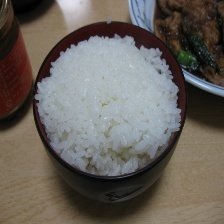sabzi: (148, 0, 224, 90)
